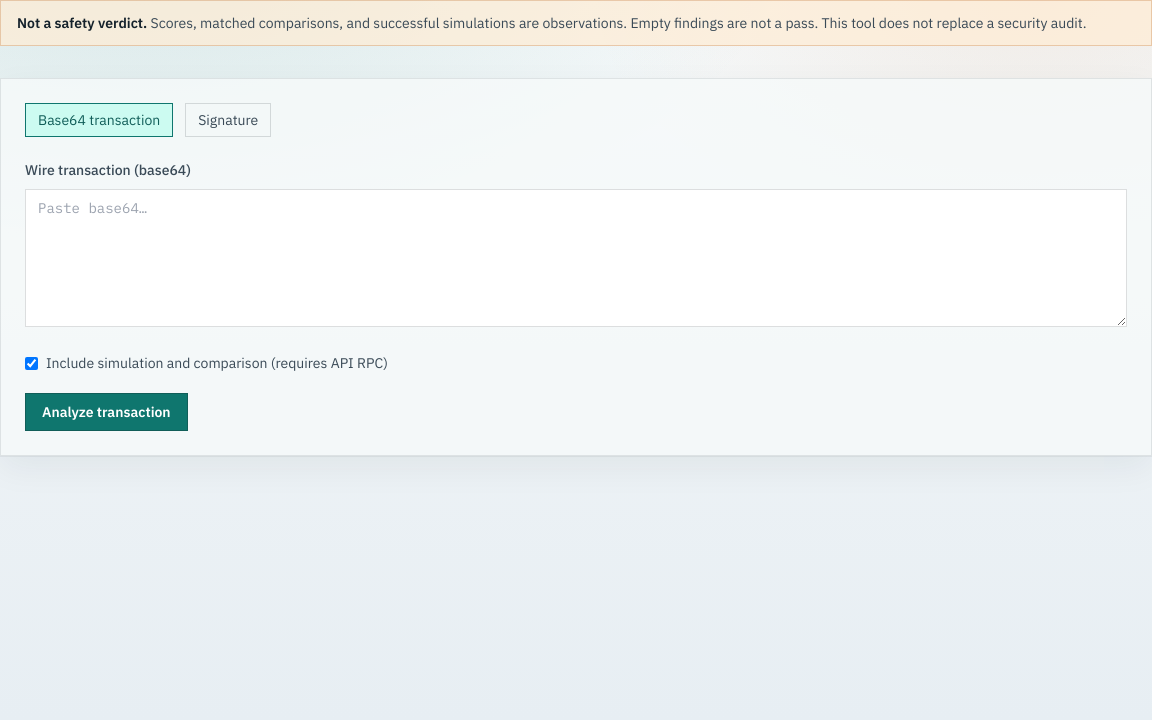
Test: AnalyzeForm › shows a validation error when submitted empty
Click the button "Analyze transaction". click: point(106, 412)
box: [25,393,188,431]
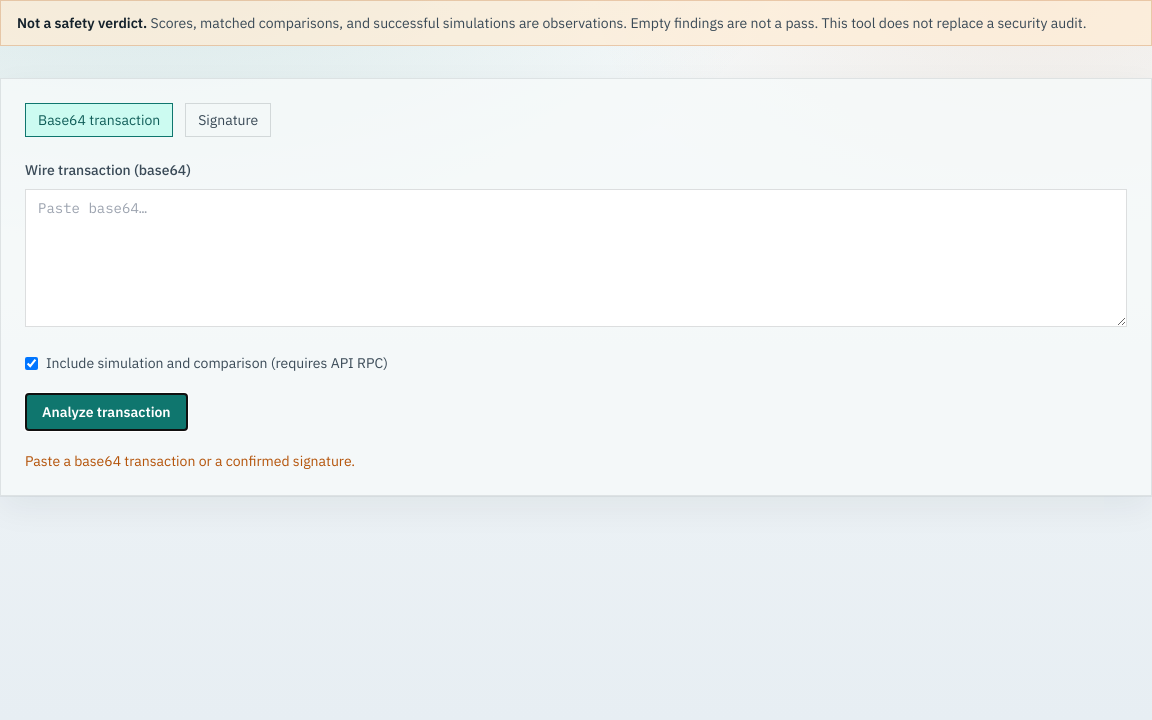
Result: the text "Paste a base64 transaction or a confirmed signature." is shown at [25,452,355,470]
